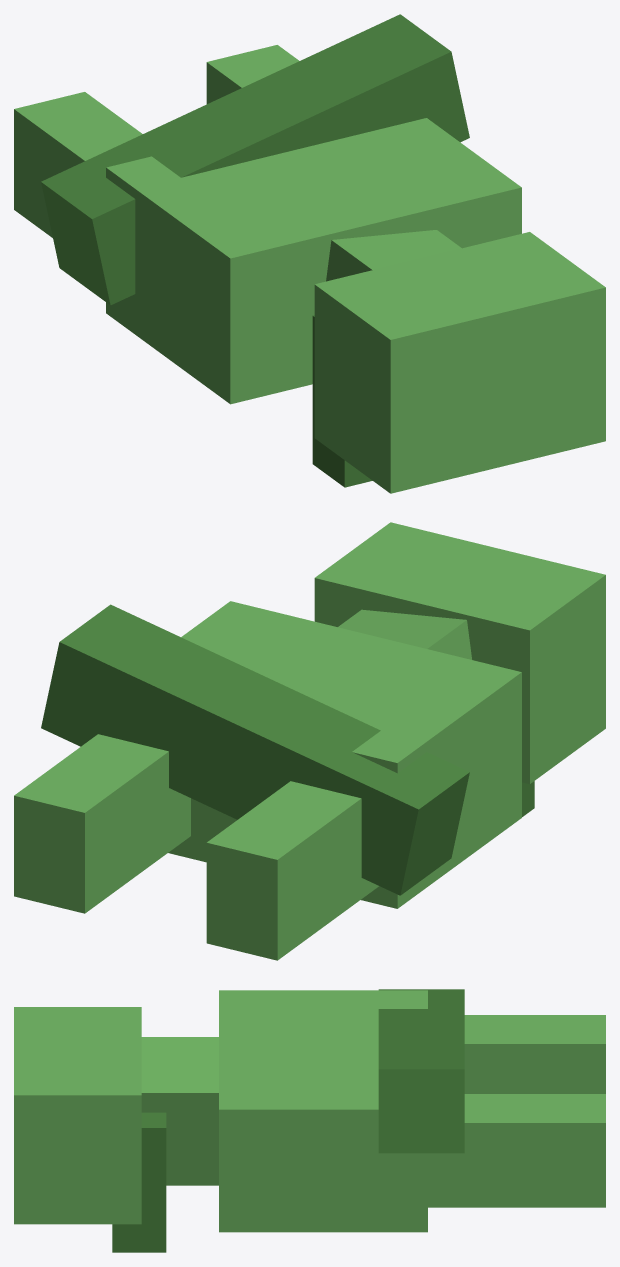
File: dinosaur_trex.glb
The picture shows the model from 3 angles, top to bottom: view 1: azimuth 30°, elevation 25°; view 2: azimuth 150°, elevation 25°; view 3: azimuth 270°, elevation 25°; orthographic projection. The views are drawn at different scales.
Parts seen in each view (by area): view 1: part_0, part_2, part_4, part_5, part_1, part_6, part_3; view 2: part_4, part_0, part_2, part_6, part_5, part_1; view 3: part_0, part_2, part_6, part_4, part_5, part_1, part_3.
Boxes of the visible parts, <box> form: part_0: <box>106,118,521,404</box>; part_2: <box>314,232,605,493</box>; part_4: <box>41,14,469,305</box>; part_5: <box>14,92,142,237</box>; part_1: <box>326,230,461,281</box>; part_6: <box>206,45,299,103</box>; part_3: <box>312,315,372,487</box>; part_4: <box>41,604,469,895</box>; part_0: <box>168,601,521,908</box>; part_2: <box>314,522,605,784</box>; part_6: <box>14,734,190,913</box>; part_5: <box>206,781,378,960</box>; part_1: <box>338,609,471,659</box>; part_0: <box>219,990,427,1232</box>; part_2: <box>14,1007,141,1224</box>; part_6: <box>428,1094,605,1207</box>; part_4: <box>378,989,464,1153</box>; part_5: <box>464,1015,605,1093</box>; part_1: <box>141,1037,218,1185</box>; part_3: <box>112,1112,166,1252</box>.
Bounding box in the file's own units: 1.49 × 0.9619 × 2.41.
